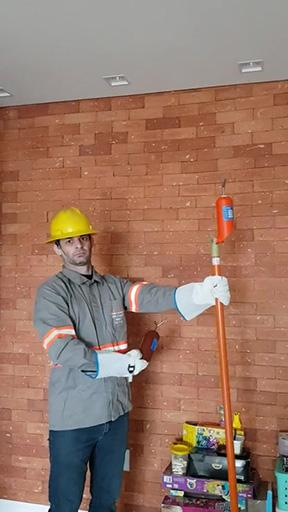Detector_Tensao_Contato: (213, 178, 238, 243), (137, 318, 166, 365)
Vara_Manobra: (208, 242, 240, 512)
